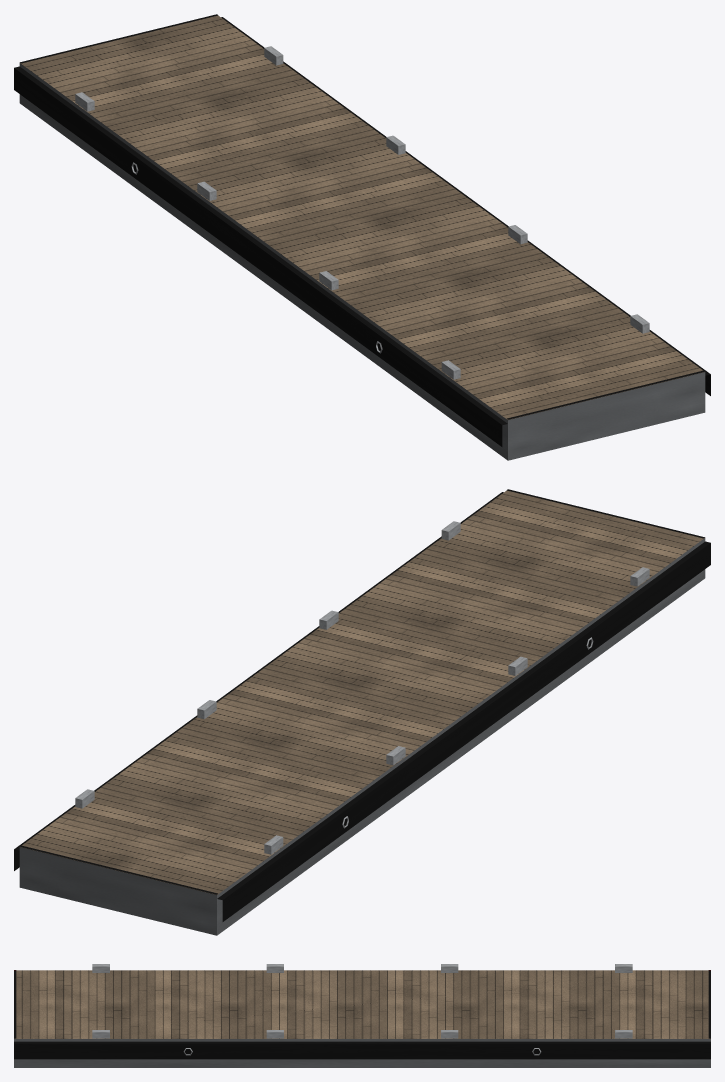
File: SM_Morin_Marina_Pontile12.fbx
3 renders of one model, top to bottom at view 1: azimuth 30°, elevation 25°; view 2: azimuth 150°, elevation 25°; view 3: azimuth 270°, elevation 25°, orthographic. The views are drawn at different scales.
Visible parts, largest first — view 1: SM_Morin_Marina_Pontile12; view 2: SM_Morin_Marina_Pontile12; view 3: SM_Morin_Marina_Pontile12.
Part boxes in pixels (x1,y1,x2,y2): SM_Morin_Marina_Pontile12: (14, 14, 710, 460); SM_Morin_Marina_Pontile12: (14, 489, 710, 935); SM_Morin_Marina_Pontile12: (14, 964, 710, 1067).
Size of what is drawn, in the model's own units: 301 by 1200 by 67.
Materials: 2 (2 with a texture image).
